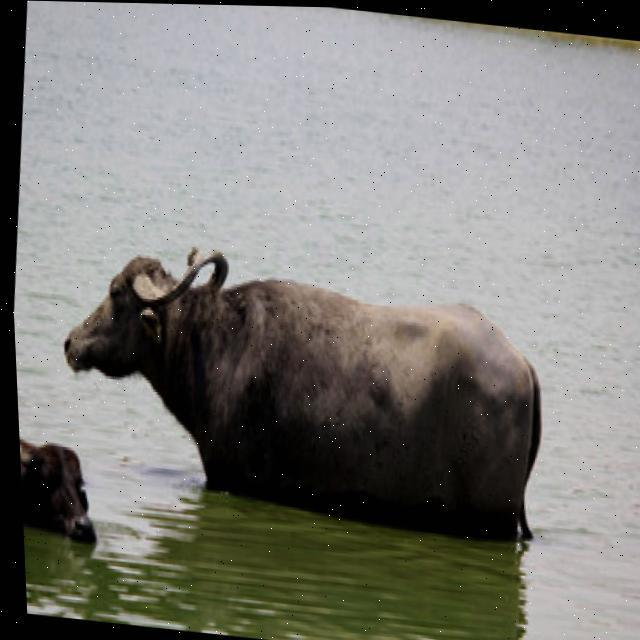Buffalo: (48, 232, 561, 545)
